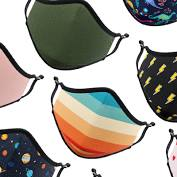cloth_mask: (50, 74, 155, 159)
